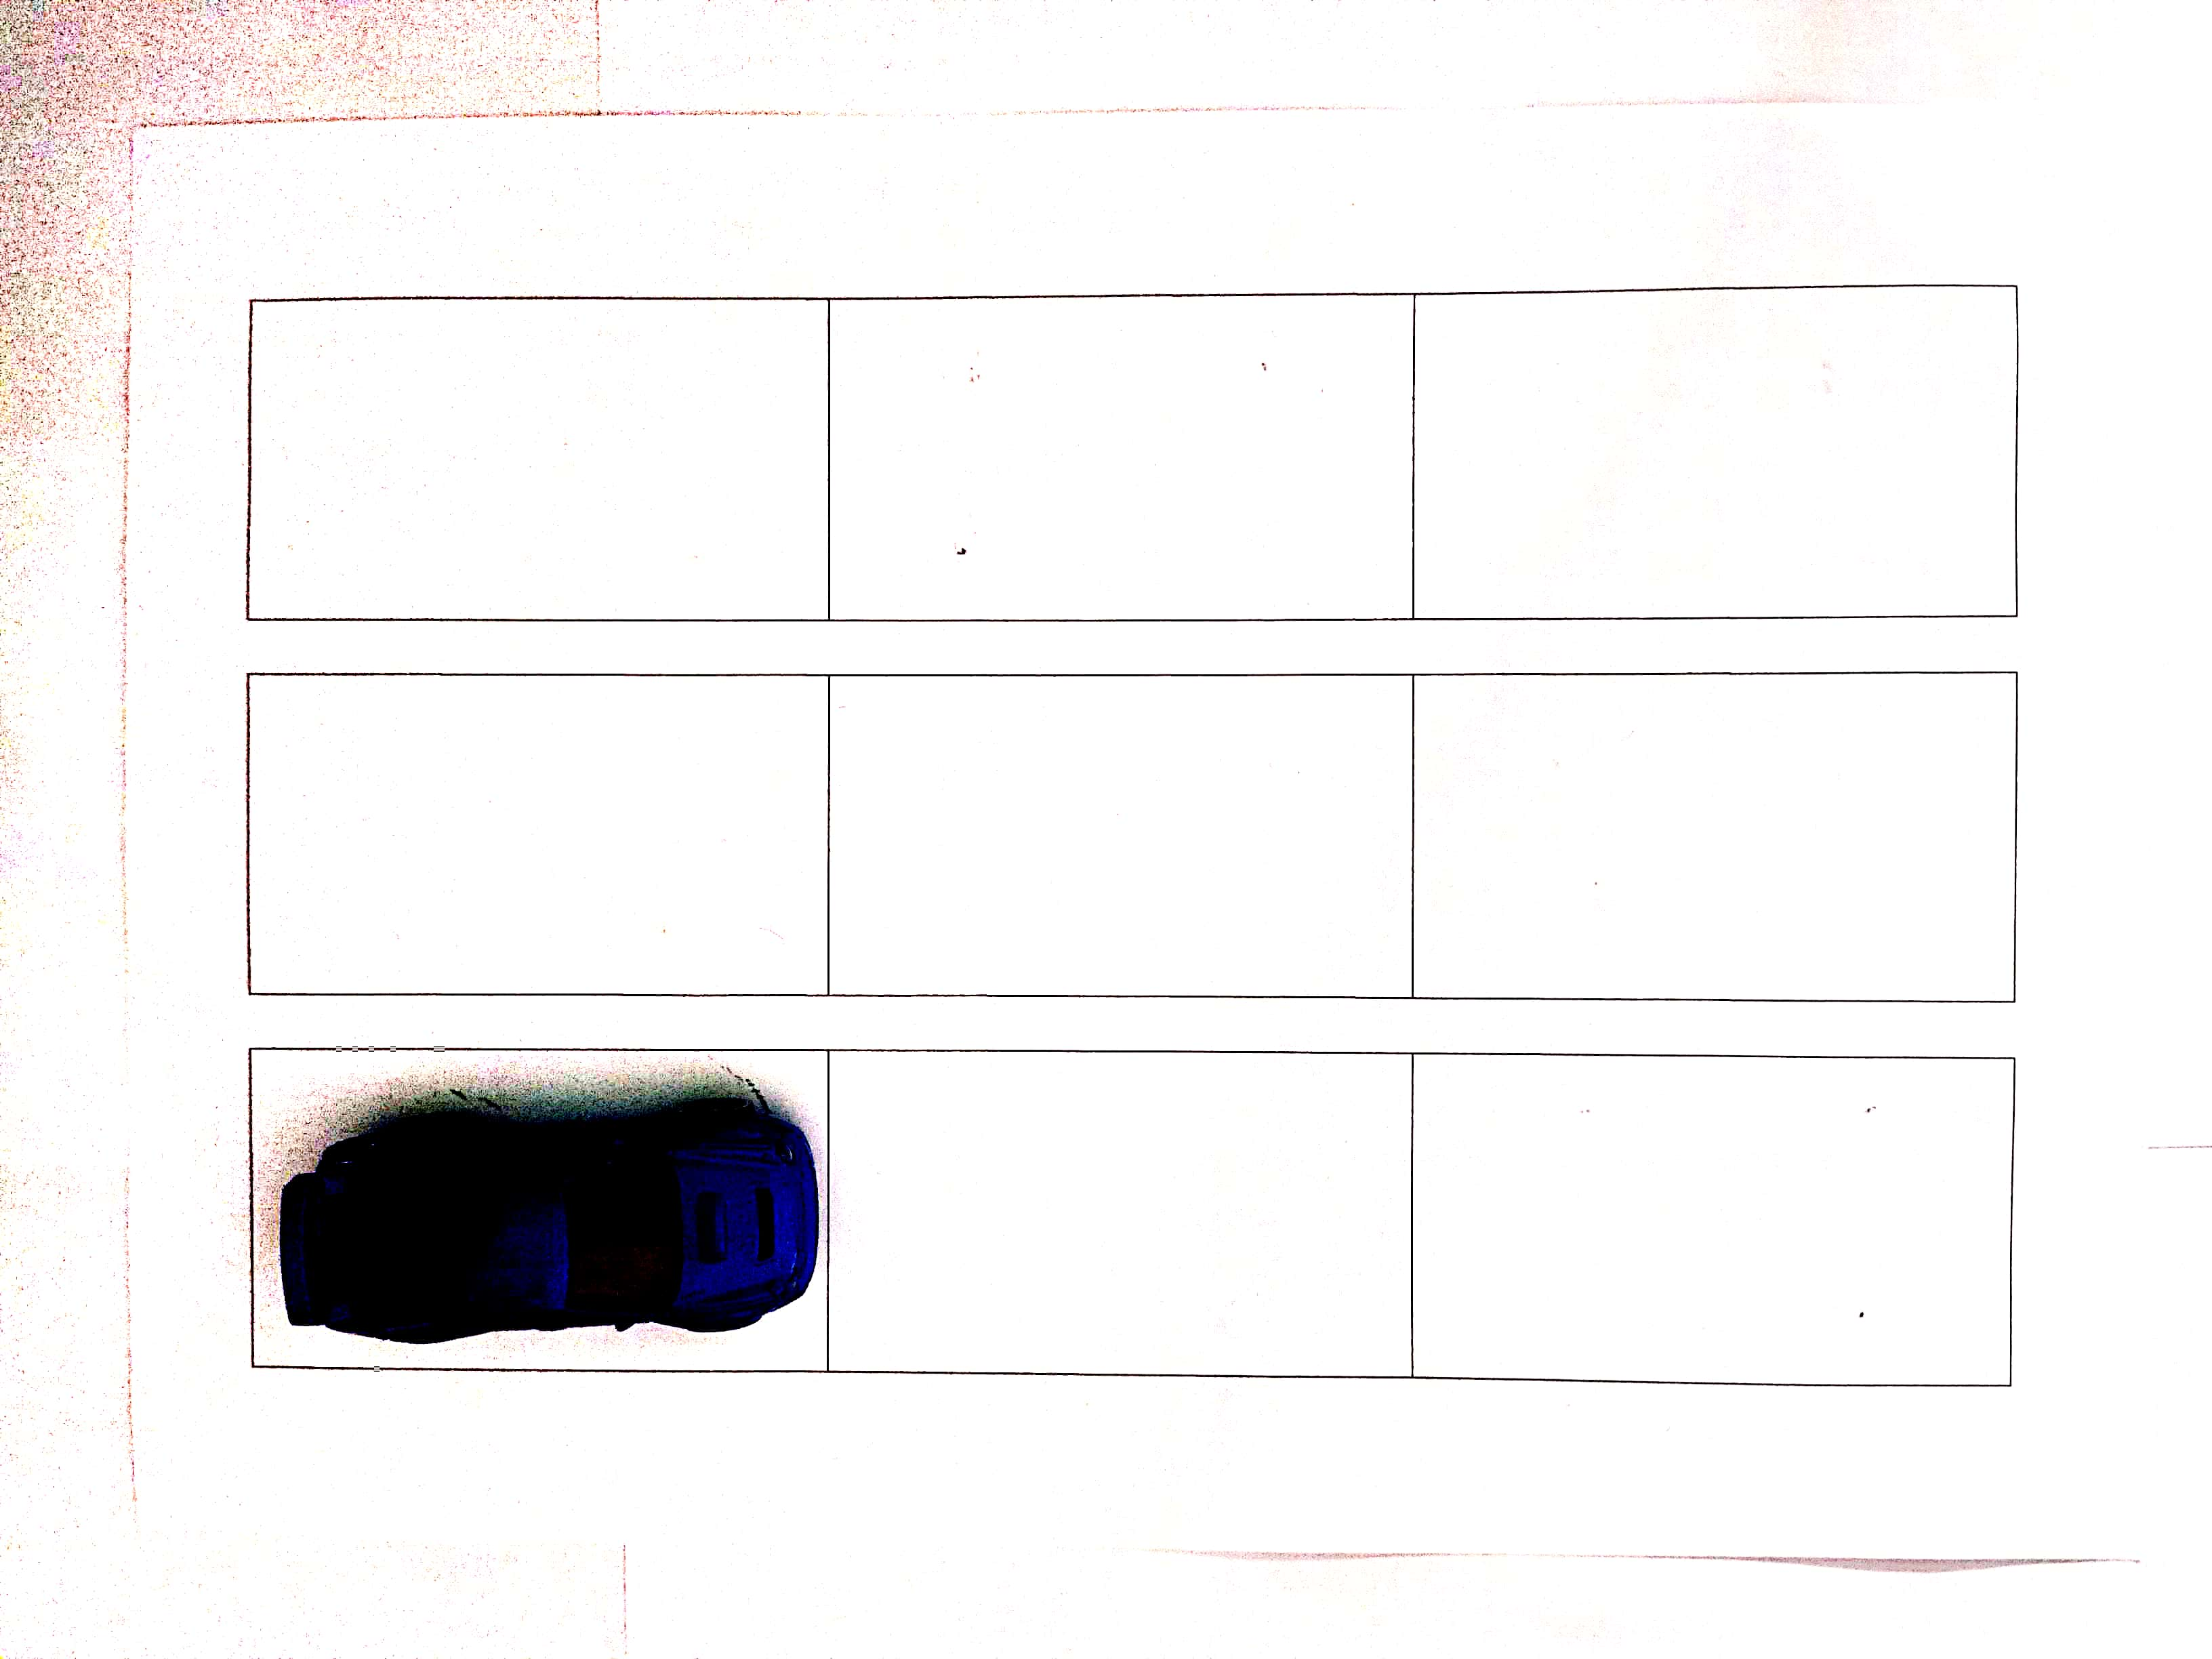Busy: (253, 1046, 824, 1363)
Free: (1413, 1053, 2013, 1380), (1414, 678, 2013, 1006), (1414, 289, 2019, 613), (829, 678, 1409, 1004), (833, 296, 1414, 620), (244, 301, 833, 620), (827, 1054, 1409, 1375), (253, 669, 824, 992)
